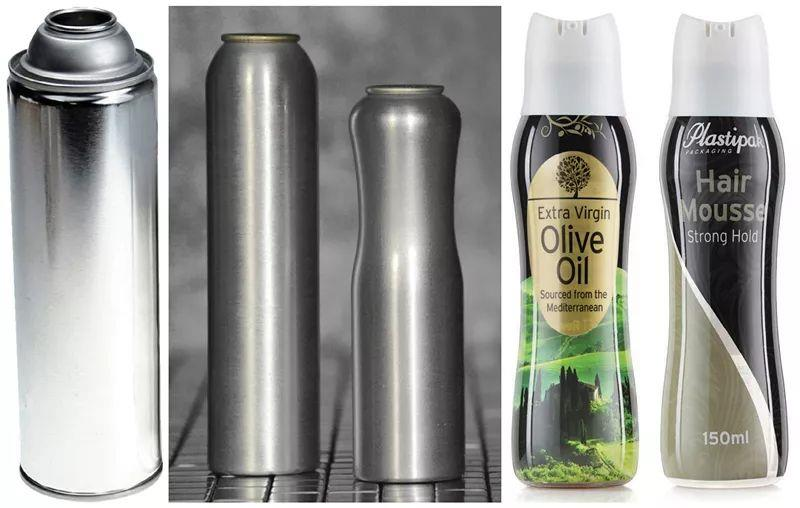Aerosol_cans: (1, 2, 165, 504), (202, 29, 322, 479), (345, 80, 467, 484)
